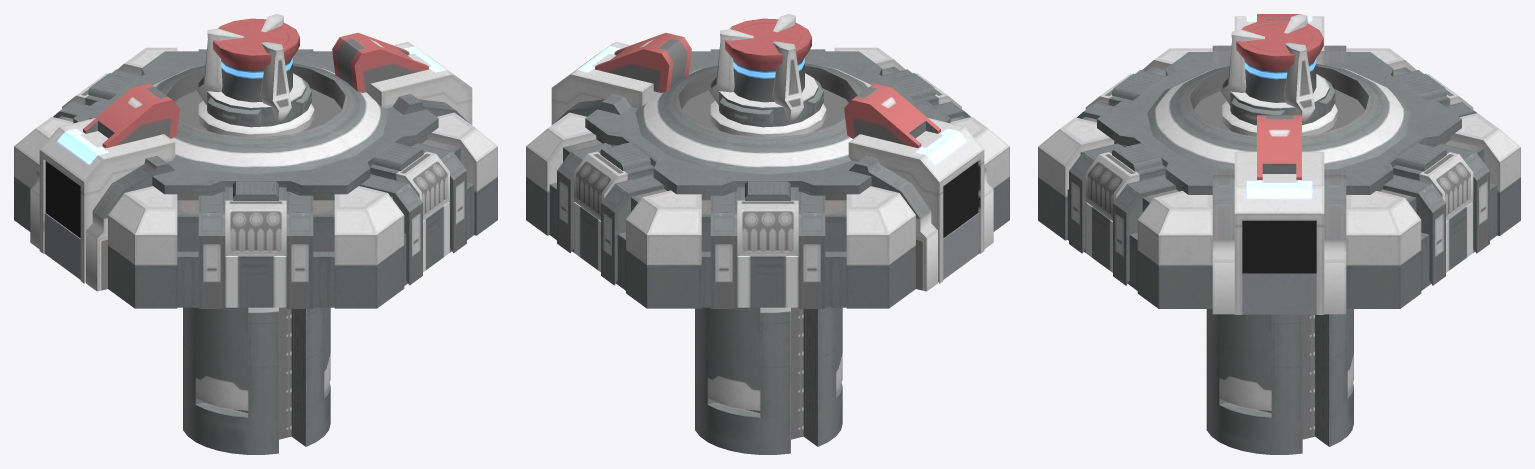
3 renders of one model, left to right at view 1: azimuth 30°, elevation 25°; view 2: azimuth 150°, elevation 25°; view 3: azimuth 270°, elevation 25°, orthographic.
Visible parts, largest first — view 1: turret-disturb; view 2: turret-disturb; view 3: turret-disturb.
Boxes of the visible parts, bbox=[...] form: turret-disturb: bbox=[14, 14, 497, 454]; turret-disturb: bbox=[526, 14, 1009, 454]; turret-disturb: bbox=[1038, 14, 1520, 454].
Bounding box in the file's own units: 6 × 5.79 × 6.48.
2 materials, 1 textured.
